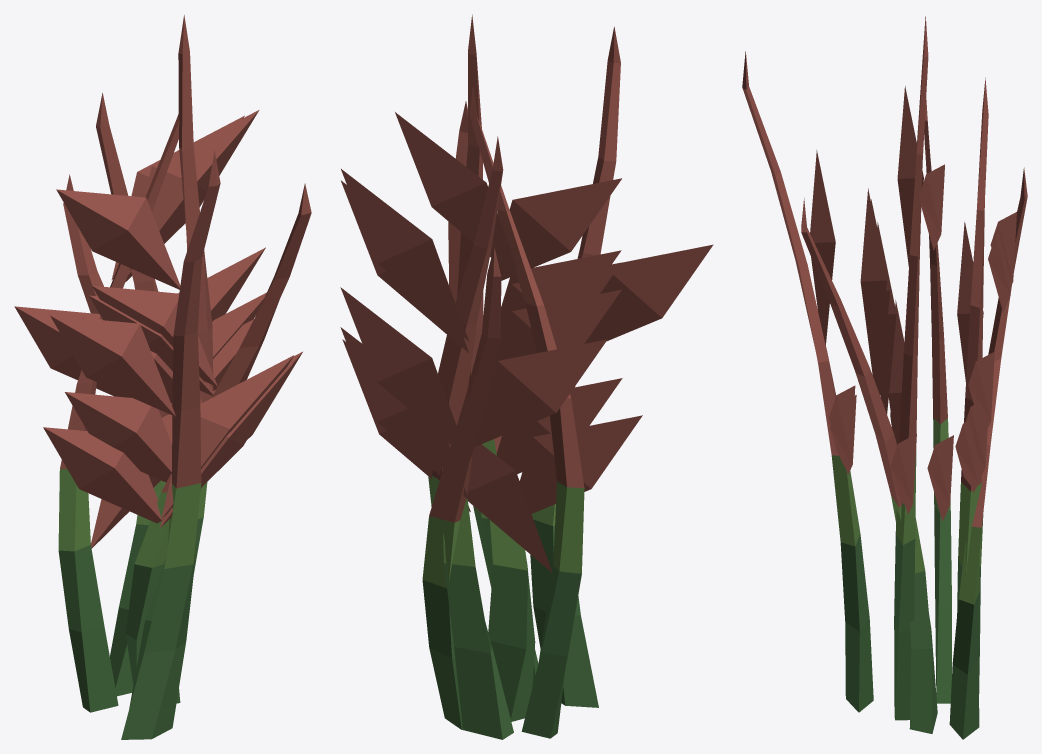
Rendered from Kelp_2.glb.
3 views of the same model, side by side, from view 1: azimuth 30°, elevation 25°; view 2: azimuth 150°, elevation 25°; view 3: azimuth 270°, elevation 25° (orthographic). The views are drawn at different scales.
Parts seen in each view (by area): view 1: Kelp_2; view 2: Kelp_2; view 3: Kelp_2.
Part boxes in pixels (box(x1,y1,x2,y2)): Kelp_2: box(14, 15, 311, 739); Kelp_2: box(340, 14, 713, 739); Kelp_2: box(742, 16, 1027, 739).
Size of the model in its own units: 0.9547 by 2.1 by 0.7535.
